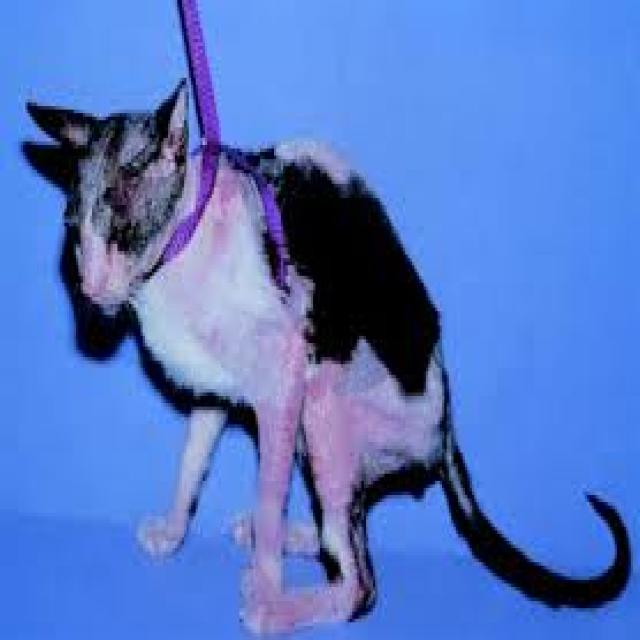cat-hairloss: (179, 262, 277, 387), (314, 385, 402, 466)
